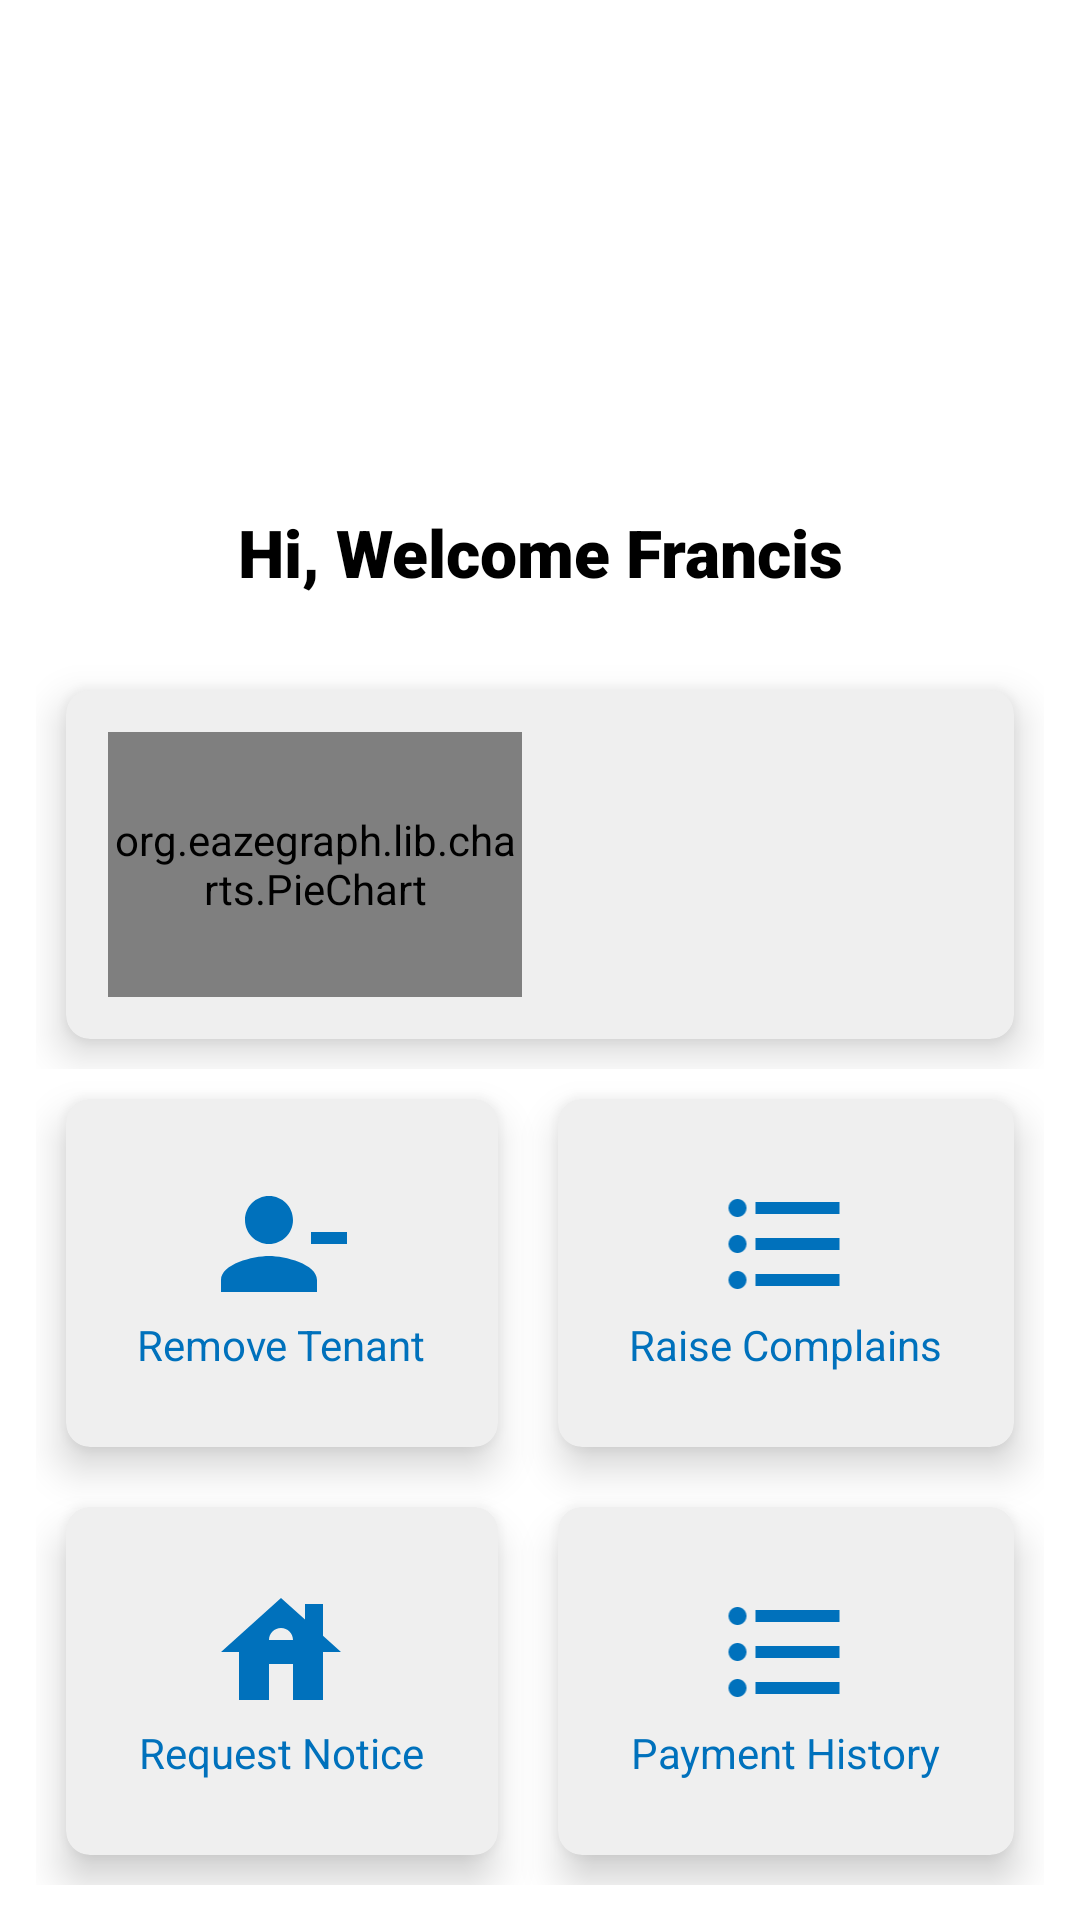

Where icons sit on this 1080 x 1920 app screen, as bbox=[x1, y1, x2, y2]:
format list bulleted: bbox=[728, 1199, 840, 1289], bbox=[728, 1607, 840, 1697]
house: bbox=[221, 1598, 341, 1700]
person remove: bbox=[221, 1196, 347, 1292]
